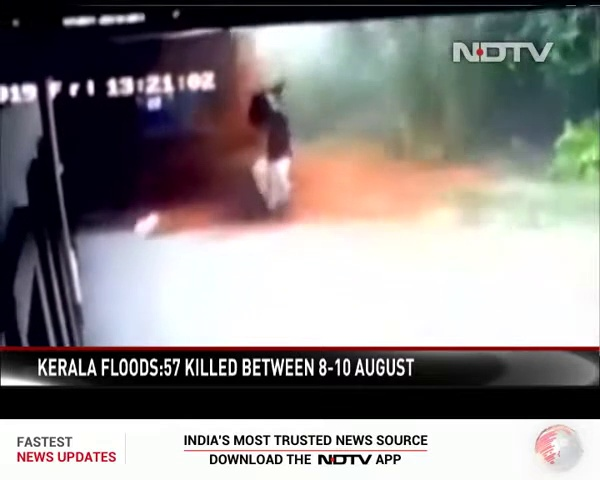person: (248, 89, 289, 209)
